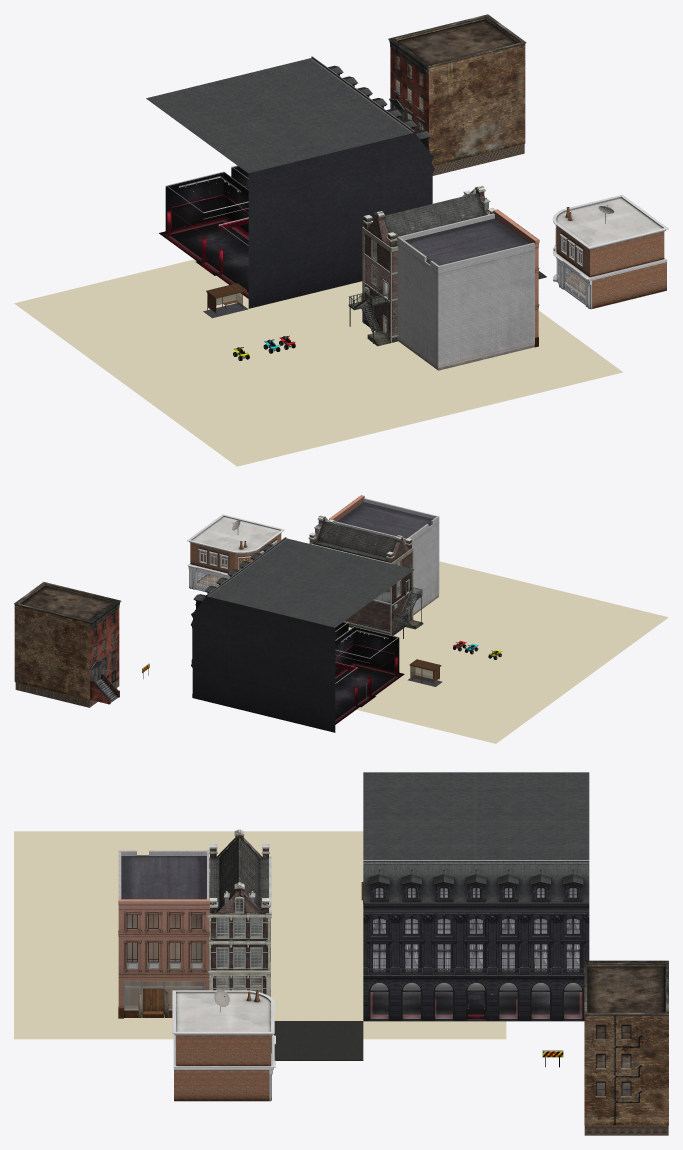
3 renders of one model, top to bottom at view 1: azimuth 30°, elevation 25°; view 2: azimuth 150°, elevation 25°; view 3: azimuth 270°, elevation 25°, orthographic. The views are drawn at different scales.
Visible parts, largest first — view 1: Terrain 11,4, prim0-mesh (×6), Rodeo Collection Store M (×4), FREE BROWNSTONE APARTMENT With BASEMENT(ubODE) (×2), ROOST - Shop2 (×3), Three Story Row House, Bus Station; view 2: prim0-mesh (×7), Terrain 11,4, FREE BROWNSTONE APARTMENT With BASEMENT(ubODE) (×3), Three Story Row House, Rodeo Collection Store M (×2), ROOST - Shop2 (×2), Bus Station; view 3: prim0-mesh (×20), Terrain 11,4, FREE BROWNSTONE APARTMENT With BASEMENT(ubODE) (×3), Rodeo Collection Store M (×4), ROOST - Shop2 (×2), Three Story Row House, Driveway 0.1 - 12.0 - 256.0.
Part boxes in pixels (<box>): Terrain 11,4: <box>14,259,622,466</box>; prim0-mesh (×6): <box>146,58,434,308</box>; Rodeo Collection Store M (×4): <box>398,209,539,367</box>; FREE BROWNSTONE APARTMENT With BASEMENT(ubODE) (×2): <box>388,14,526,175</box>; ROOST - Shop2 (×3): <box>552,194,668,309</box>; Three Story Row House: <box>348,185,495,346</box>; Bus Station: <box>203,283,247,318</box>; prim0-mesh (×7): <box>191,538,414,732</box>; Terrain 11,4: <box>348,561,668,743</box>; FREE BROWNSTONE APARTMENT With BASEMENT(ubODE) (×3): <box>14,582,121,707</box>; Three Story Row House: <box>308,515,423,638</box>; Rodeo Collection Store M (×2): <box>337,502,438,613</box>; ROOST - Shop2 (×2): <box>187,514,284,591</box>; Bus Station: <box>408,659,442,686</box>; prim0-mesh (×20): <box>363,772,589,1021</box>; Terrain 11,4: <box>14,831,506,1039</box>; FREE BROWNSTONE APARTMENT With BASEMENT(ubODE) (×3): <box>584,960,668,1135</box>; Rodeo Collection Store M (×4): <box>118,855,210,1018</box>; ROOST - Shop2 (×2): <box>172,990,275,1101</box>; Three Story Row House: <box>207,829,271,996</box>; Driveway 0.1 - 12.0 - 256.0: <box>273,1021,363,1060</box>.
Size of what is drawn, in the model's own units: 90.74 by 23.28 by 85.17.
Materials: 240 (236 with a texture image).
